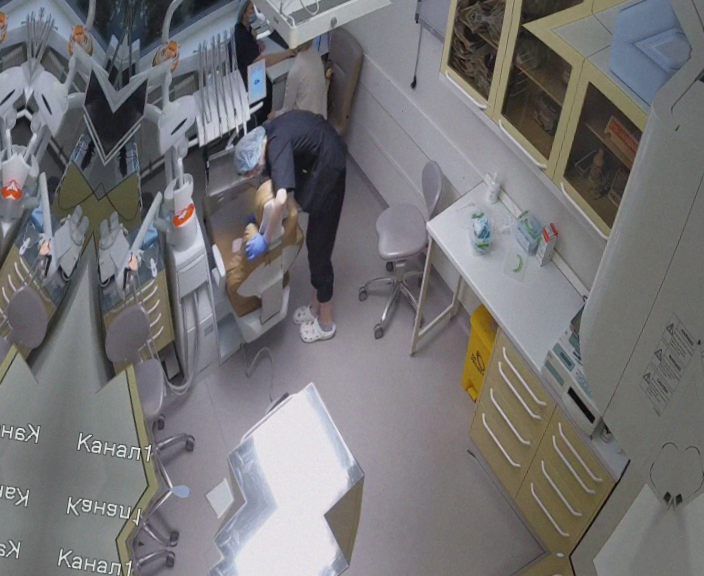Empty: (193, 169, 312, 346)
